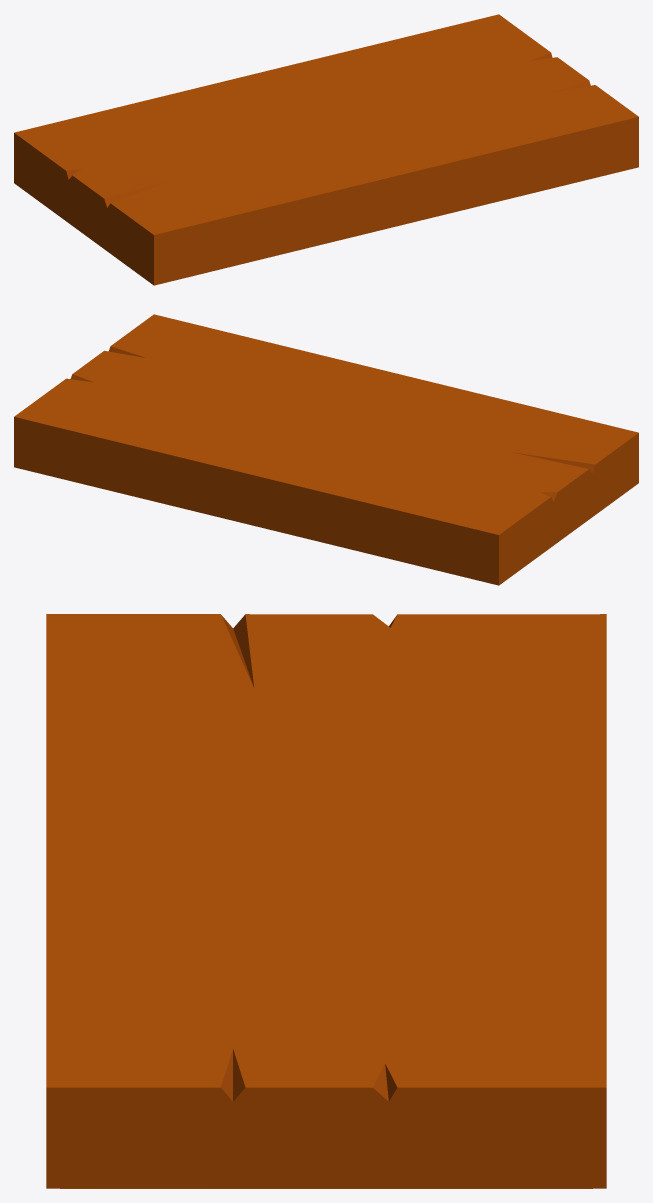
Rendered from Counter_Top_03_D.fbx.
3 views of the same model, one above another, from view 1: azimuth 30°, elevation 25°; view 2: azimuth 150°, elevation 25°; view 3: azimuth 270°, elevation 25° (orthographic). The views are drawn at different scales.
Parts seen in each view (by area): view 1: Counter_Top_03_D; view 2: Counter_Top_03_D; view 3: Counter_Top_03_D.
Boxes of the visible parts, <box> form: Counter_Top_03_D: <box>14,14,638,285</box>; Counter_Top_03_D: <box>14,314,638,585</box>; Counter_Top_03_D: <box>46,614,606,1188</box>.
Size of the model in its own units: 200 by 21.09 by 100.
